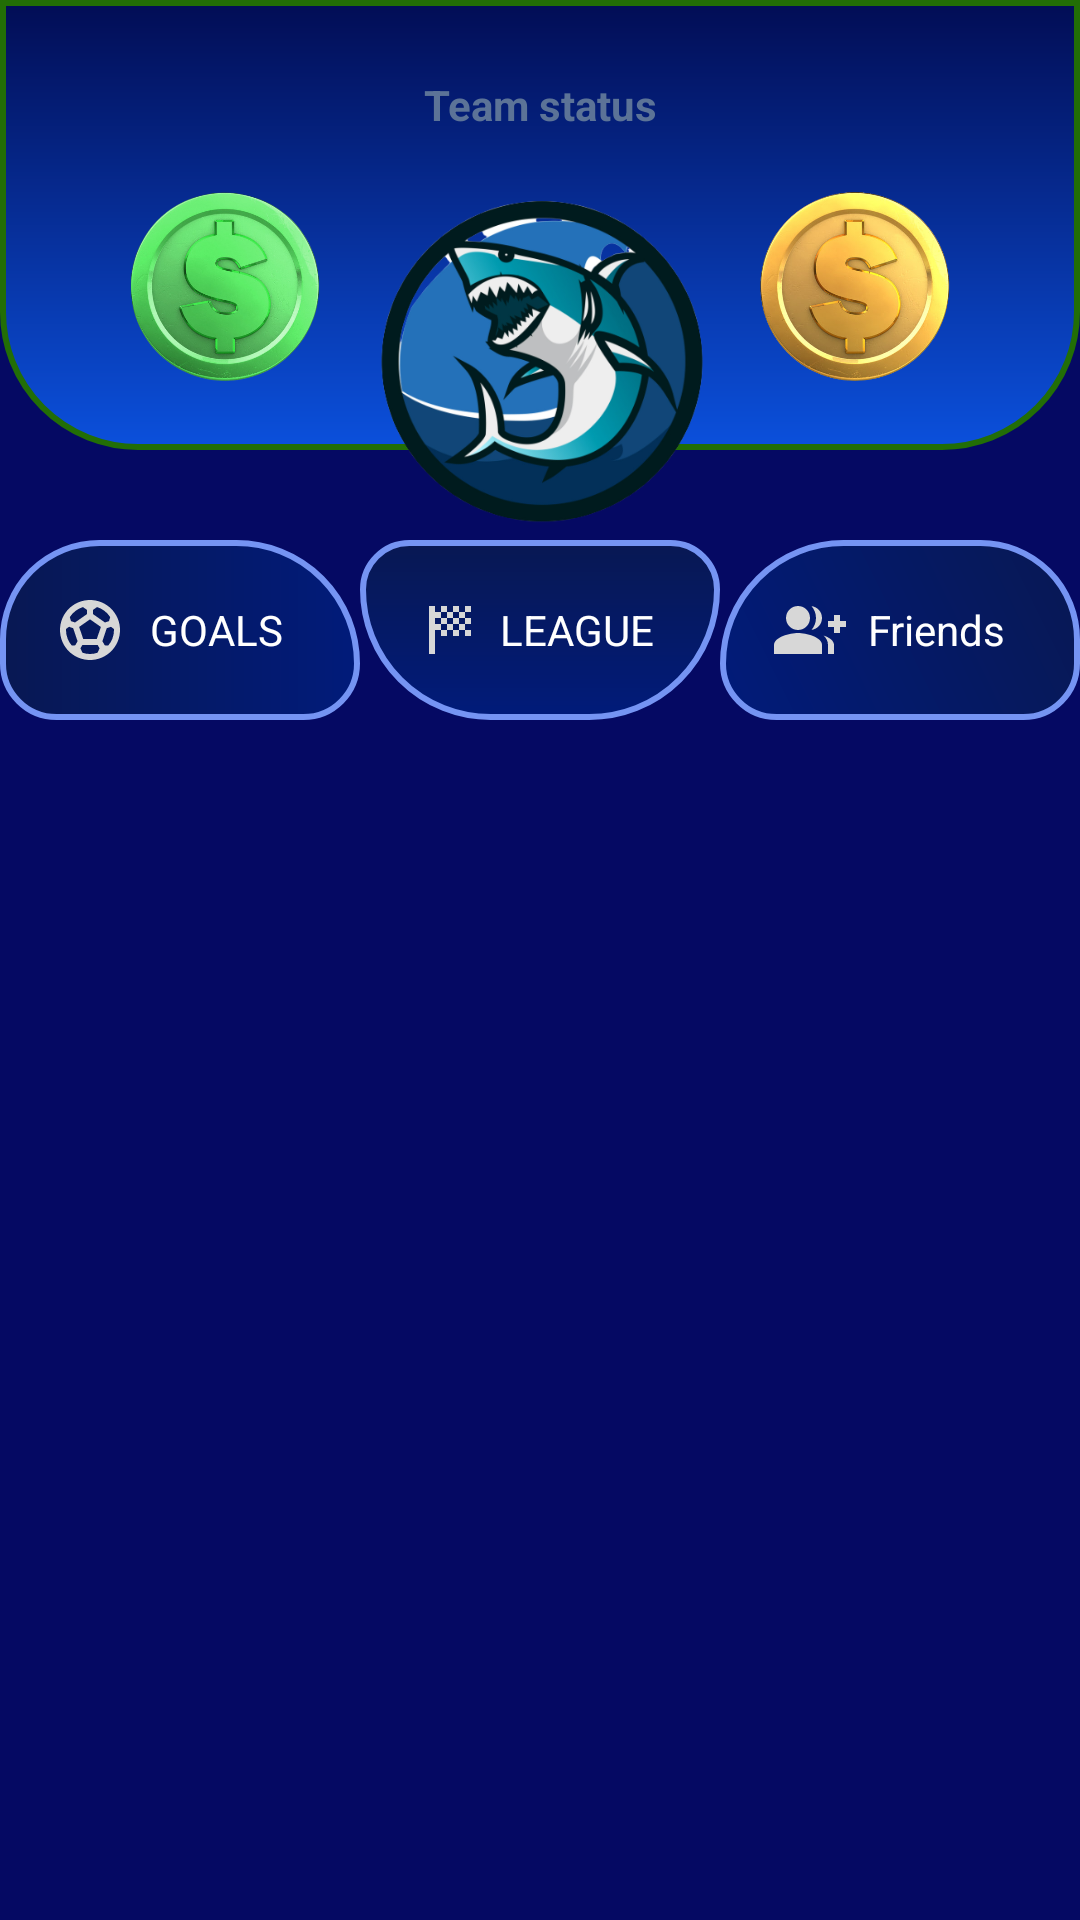

Where to tap for icons on this 1080*1920 app screen, as (x,y):
ball: (90,630)
coin: (225,285)
coin gold: (855,285)
shark: (540,360)
